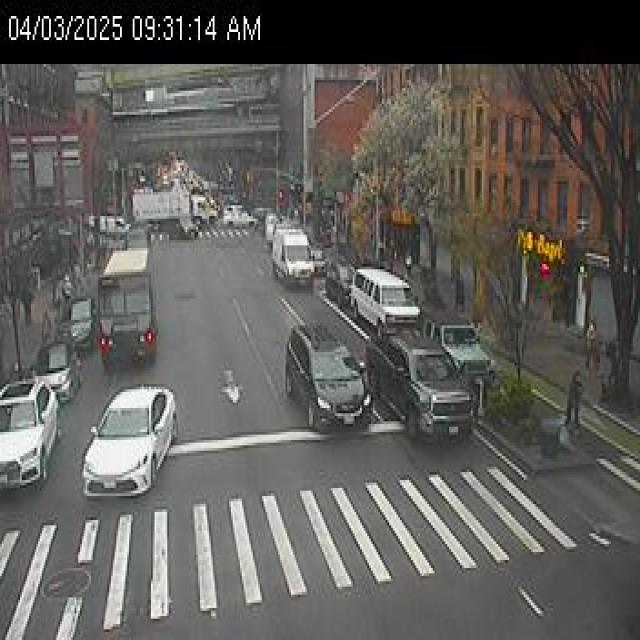open parking: (317, 271, 510, 385), (63, 222, 129, 446)
